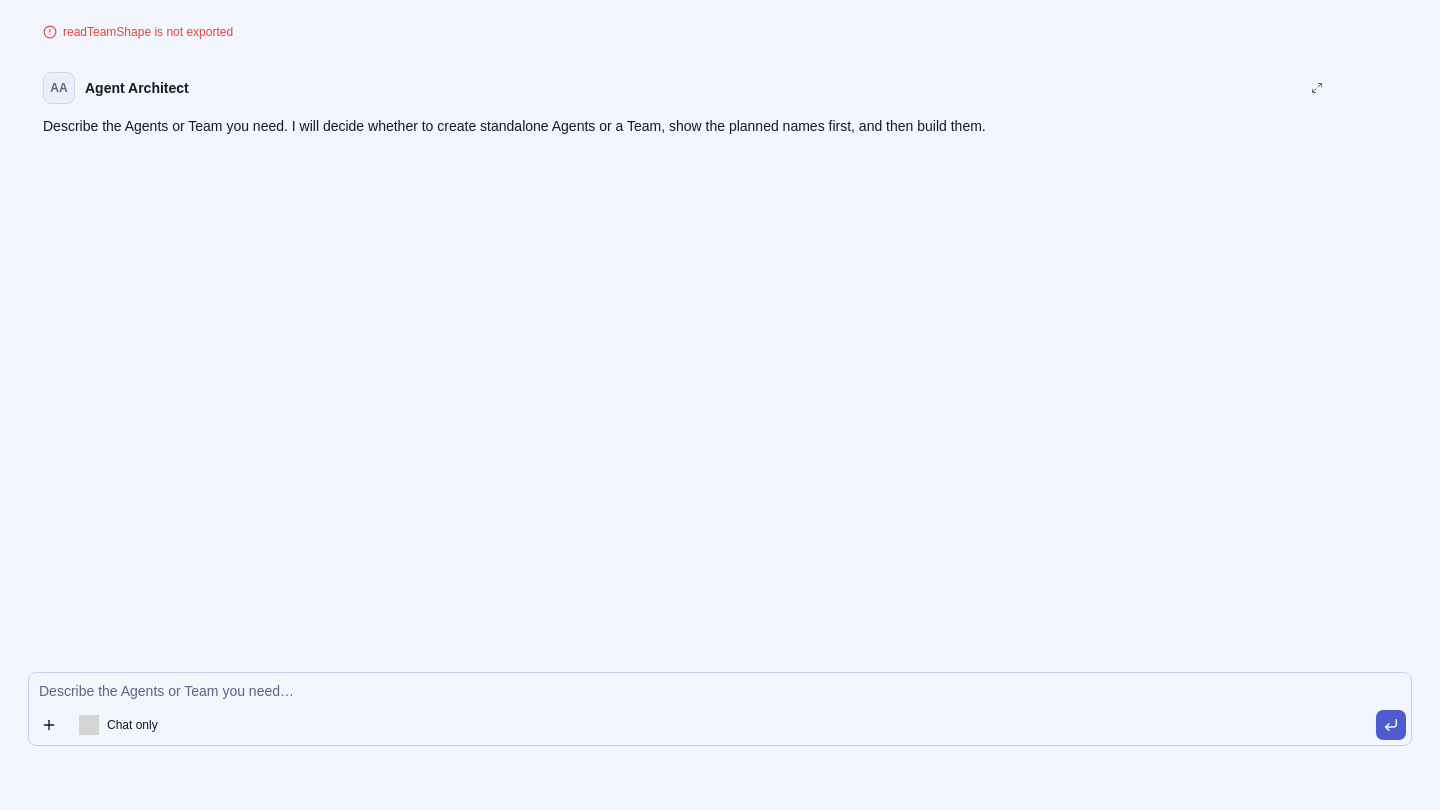
Scenario: Create authoring model provenance › resumes a dropped stream where it left off instead of replaying it
Check: the button with aria-label "Agent Architect model" reads "Chat only", box [71,709,279,741]
Type "Create three lawyers" into the text box.
click(720, 709); type("Create three lawyers")  # box [29,673,1411,745]
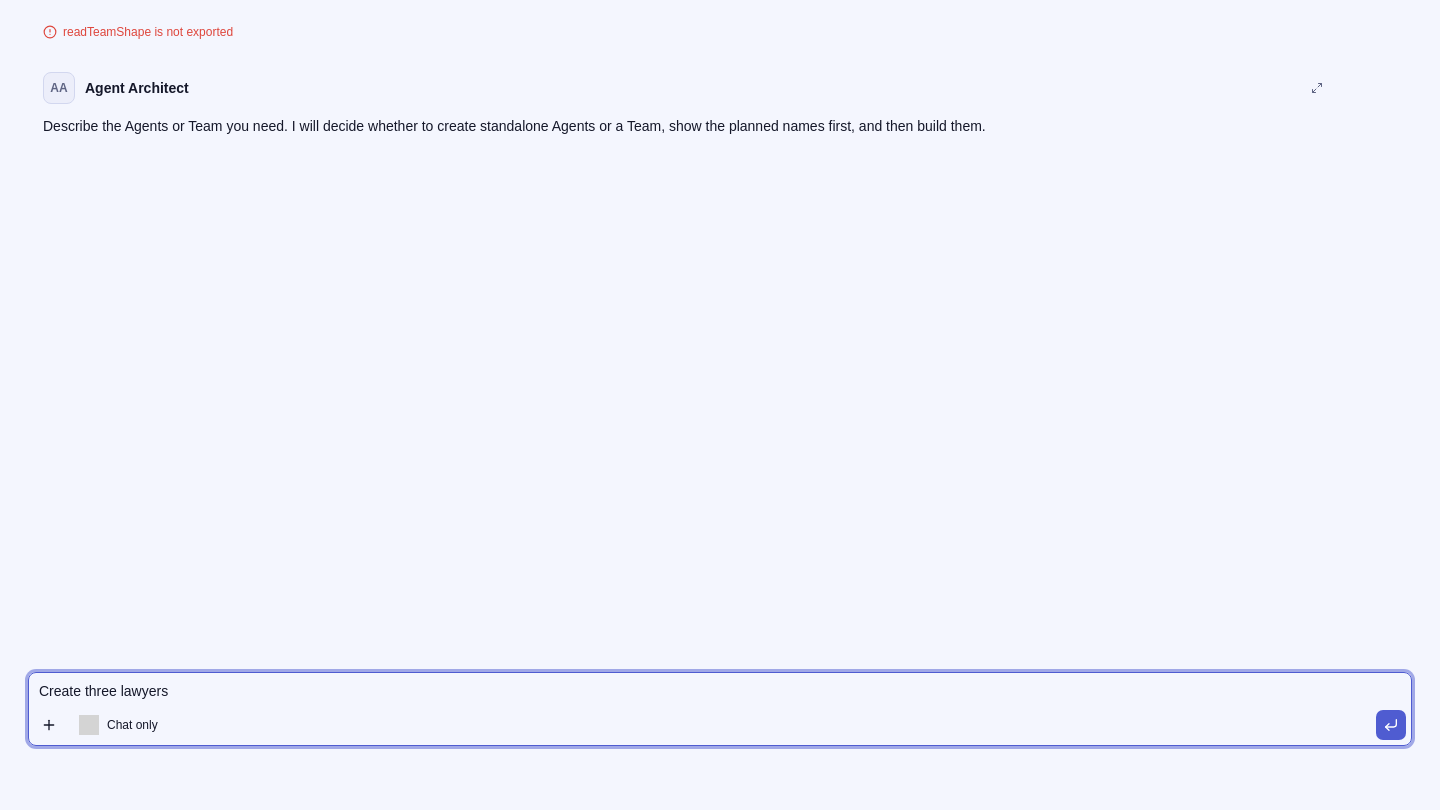
Click the button named "Submit".
click(1391, 725)  # box [1375,709,1407,741]
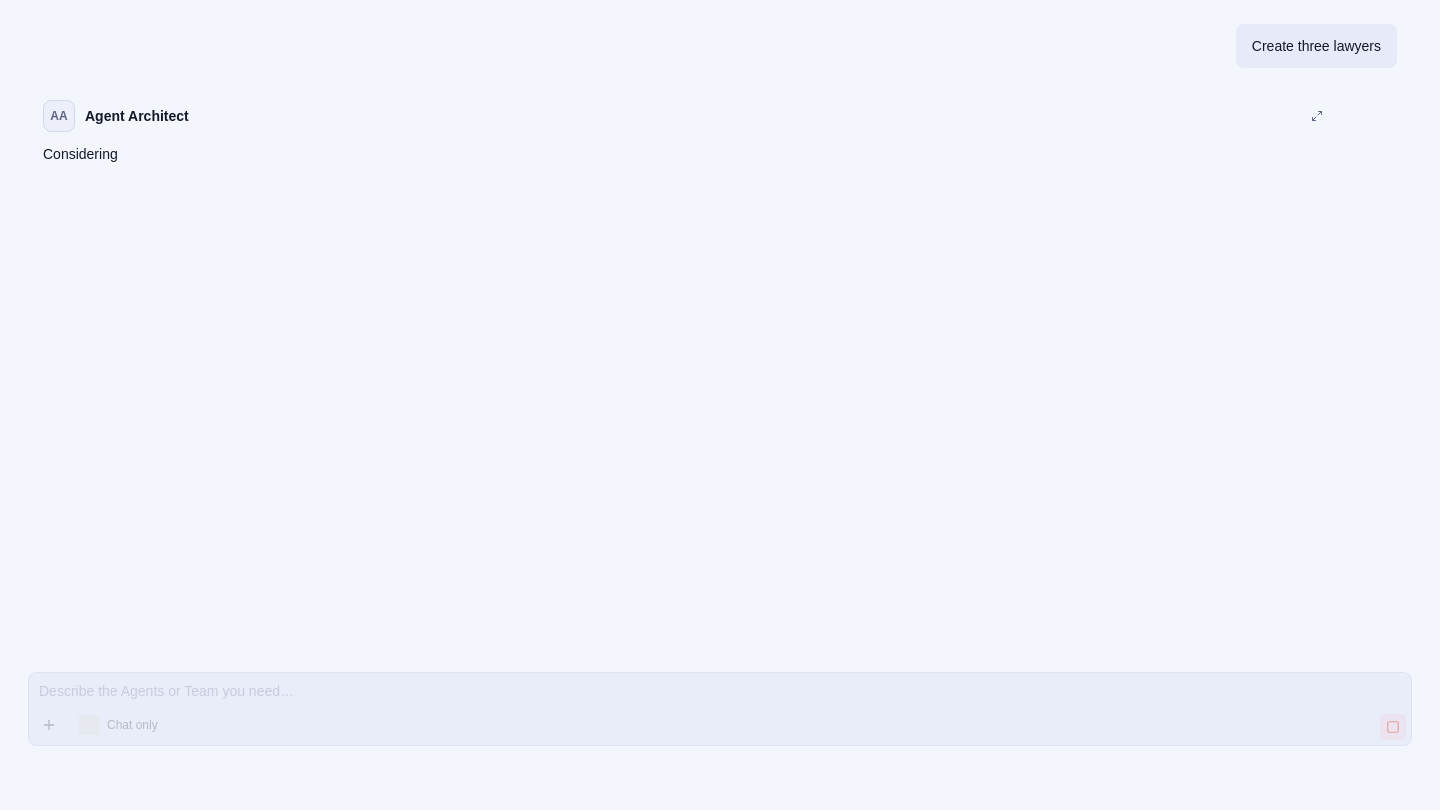
Check: the text "Considering" is shown, box [43,144,118,164]
